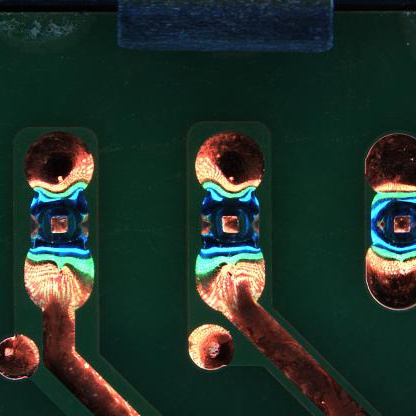spot: (198, 189, 262, 253), (27, 187, 90, 251), (370, 191, 416, 255)
